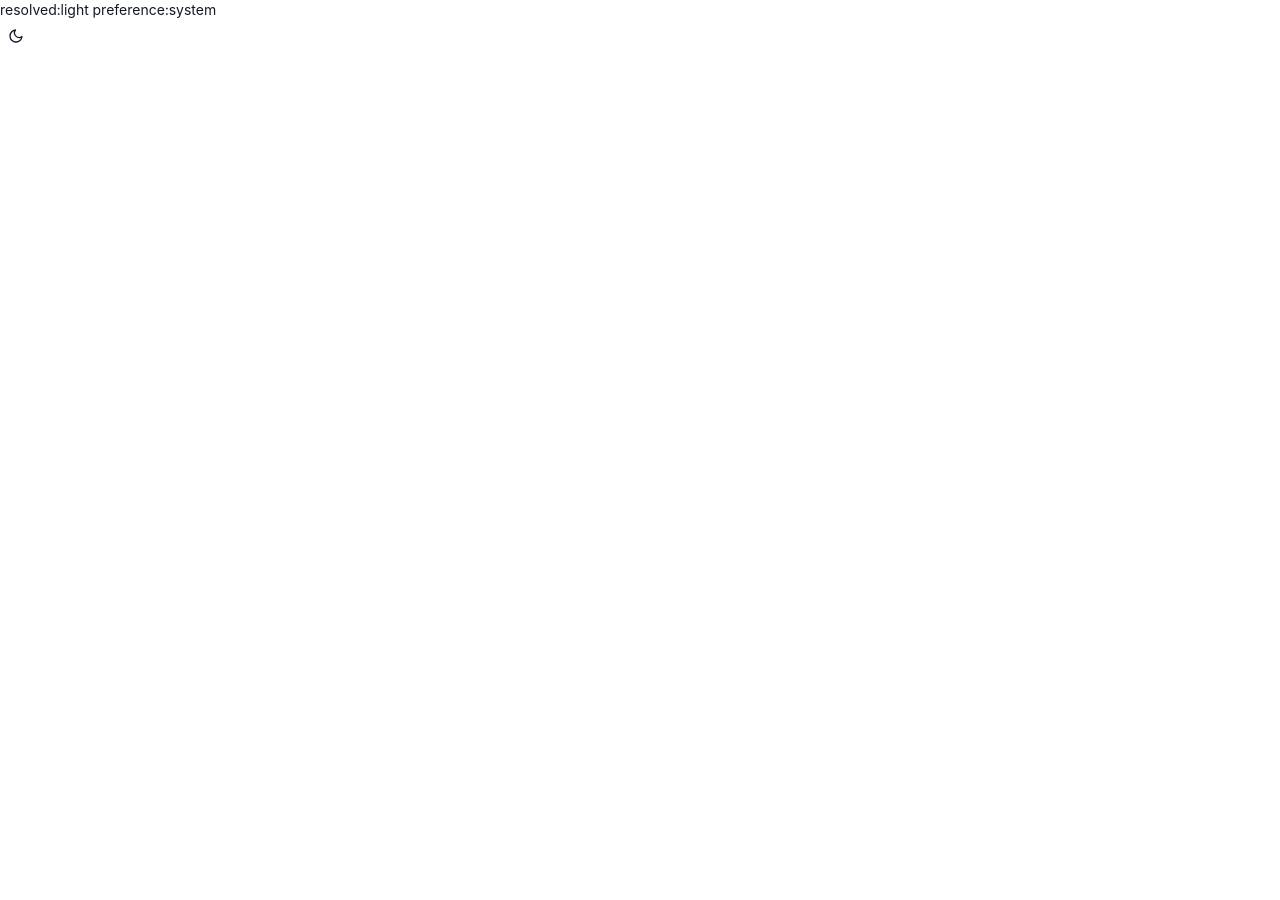
ThemeProvider › toggles, applies and persists the choice
Later steps or results of the test are not shown.
Click the button named "Switch to dark theme": {"x": 16, "y": 36} x1=0 y1=20 x2=32 y2=52
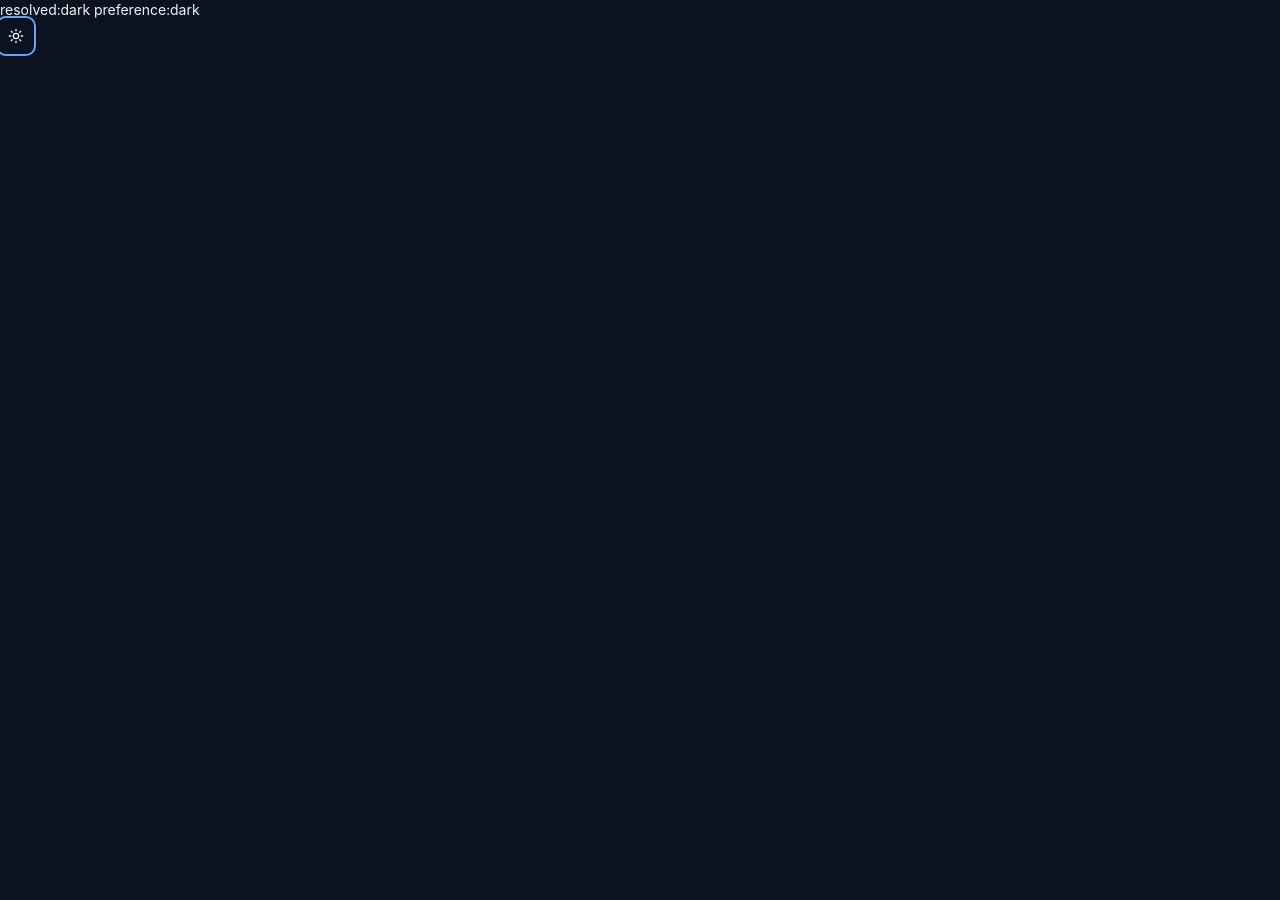
Check: the text "resolved:dark preference:dark" is shown, box x1=0 y1=1 x2=200 y2=18
